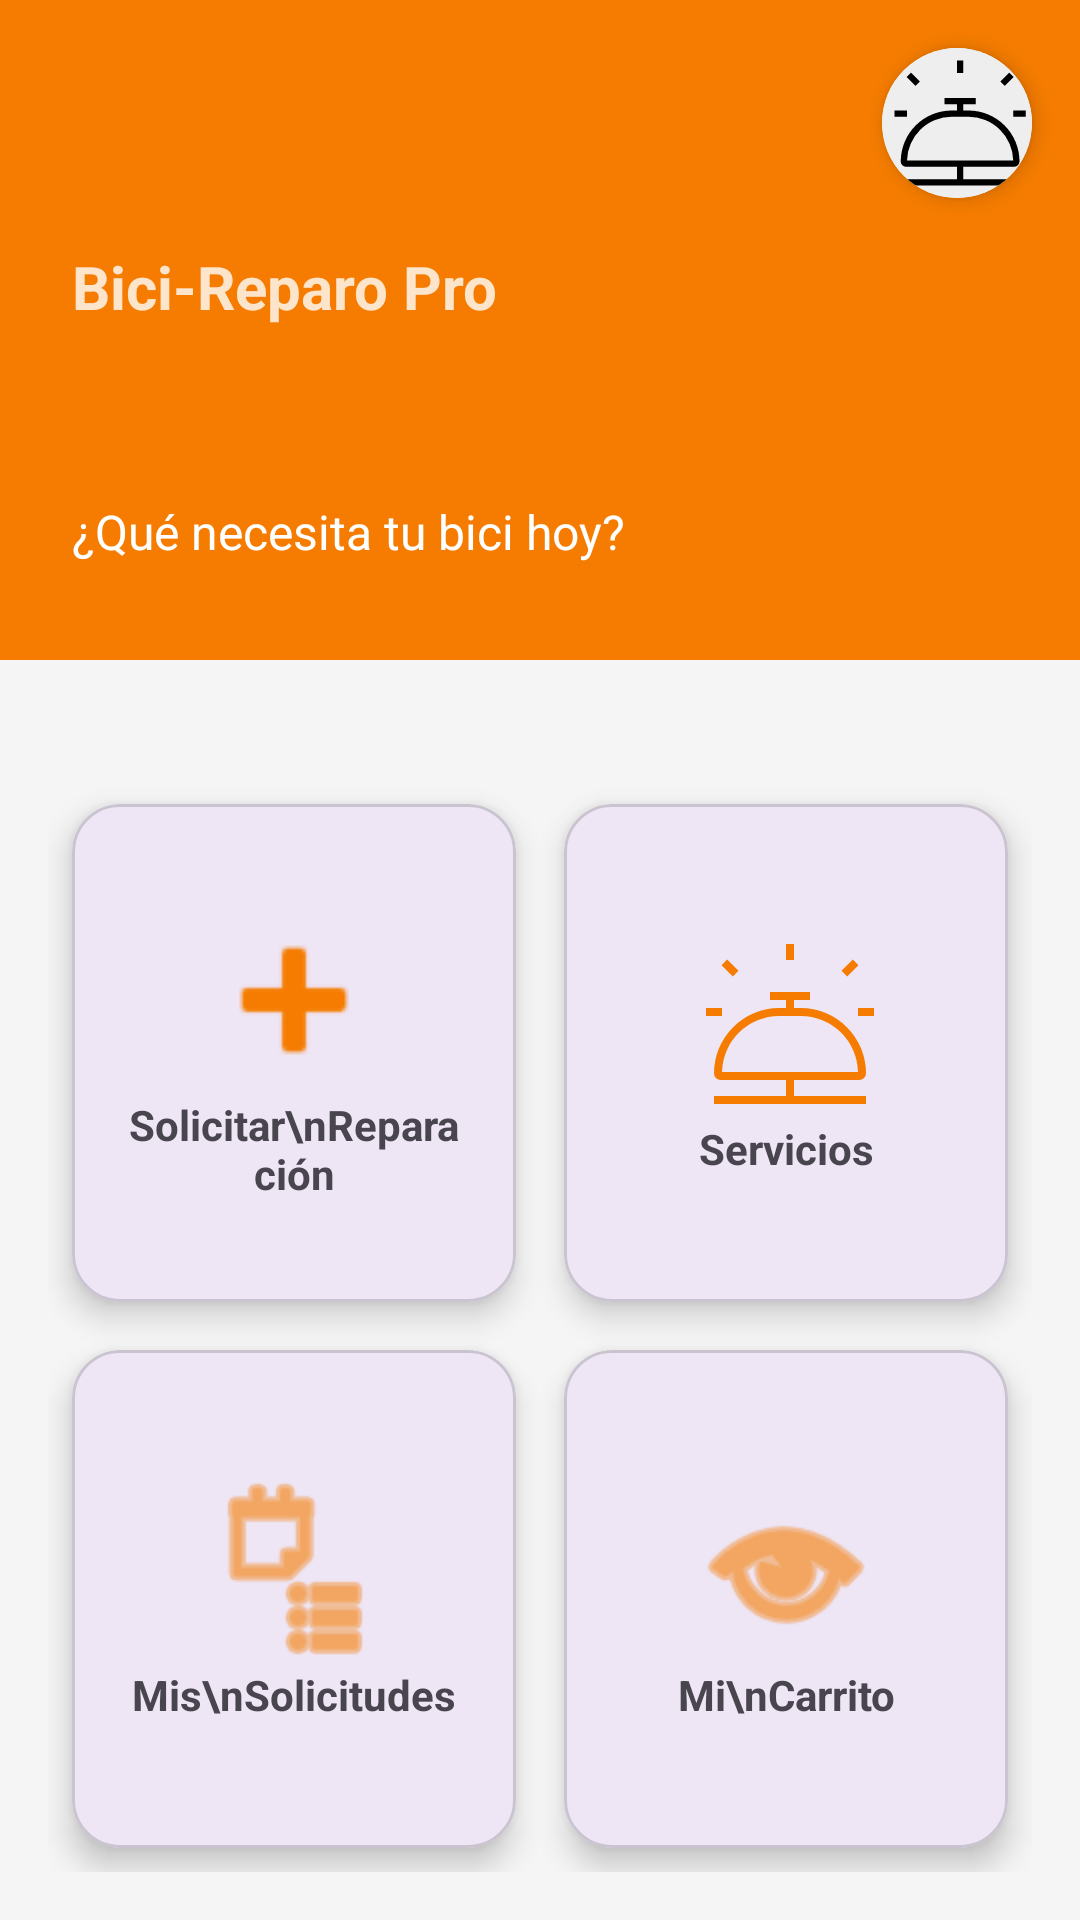

Point at icon controls on the screen. Image size 1080px x 1920px, points as point (x, y).
add: point (294, 1000)
agenda: point (295, 1568)
view: point (786, 1575)
